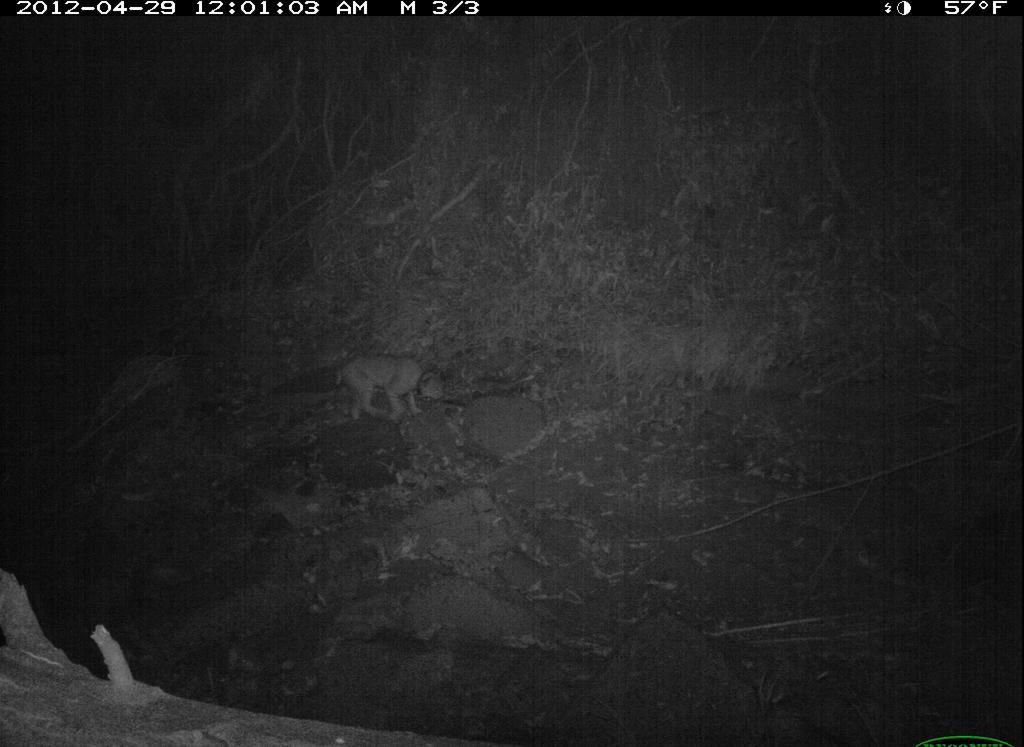bobcat: (324, 346, 464, 429)
